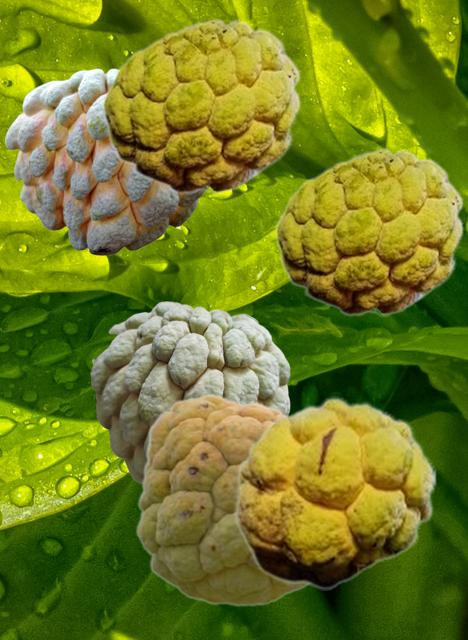atis: (233, 396, 436, 589), (5, 68, 204, 254), (135, 393, 308, 605), (90, 301, 289, 484), (101, 18, 300, 193), (274, 148, 463, 315)
